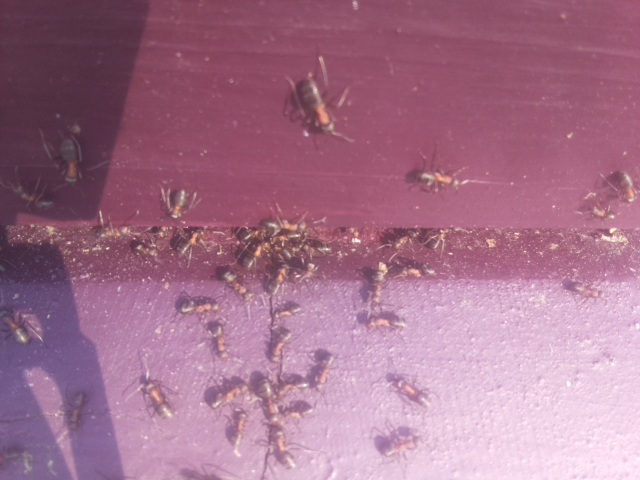ant: (282, 72, 352, 137), (128, 365, 185, 429), (208, 257, 262, 309), (380, 368, 437, 412), (53, 385, 94, 439), (368, 426, 426, 461), (158, 178, 197, 228), (54, 128, 83, 189), (0, 304, 36, 352), (8, 177, 57, 210), (414, 163, 462, 192), (363, 259, 392, 306), (559, 272, 602, 301), (271, 426, 296, 475), (172, 291, 221, 316), (312, 345, 335, 395), (89, 217, 131, 244), (613, 167, 640, 206), (226, 410, 251, 452), (208, 317, 230, 364), (174, 227, 206, 257), (266, 262, 291, 296), (272, 322, 290, 369)
